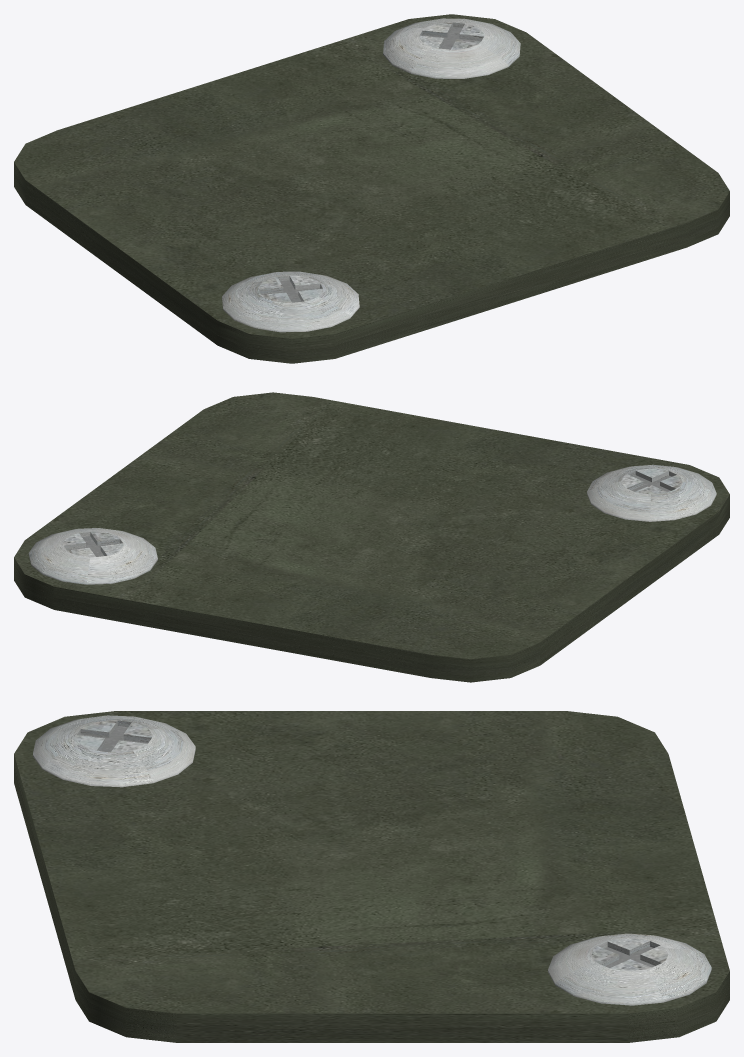
File: F_FiringKnob_Frame_01.fbx
3 renders of one model, top to bottom at view 1: azimuth 30°, elevation 25°; view 2: azimuth 150°, elevation 25°; view 3: azimuth 270°, elevation 25°, orthographic. The views are drawn at different scales.
Parts seen in each view (by area): view 1: F_FiringKnob_Frame_01; view 2: F_FiringKnob_Frame_01; view 3: F_FiringKnob_Frame_01.
Boxes of the visible parts, box(x1,y1,x2,y2) form: F_FiringKnob_Frame_01: box(14, 14, 729, 363); F_FiringKnob_Frame_01: box(14, 392, 729, 682); F_FiringKnob_Frame_01: box(14, 711, 729, 1042).
Bounding box in the file's own units: 85.26 × 6.02 × 85.26.
Materials: 1 (1 with a texture image).
